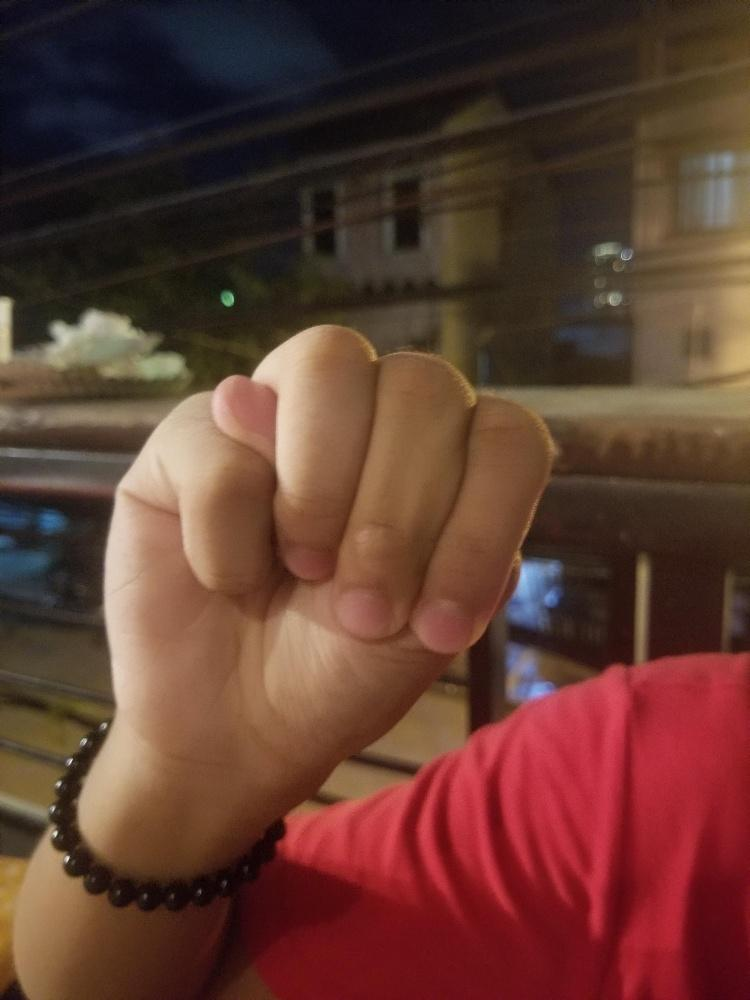m: (102, 324, 556, 765)
